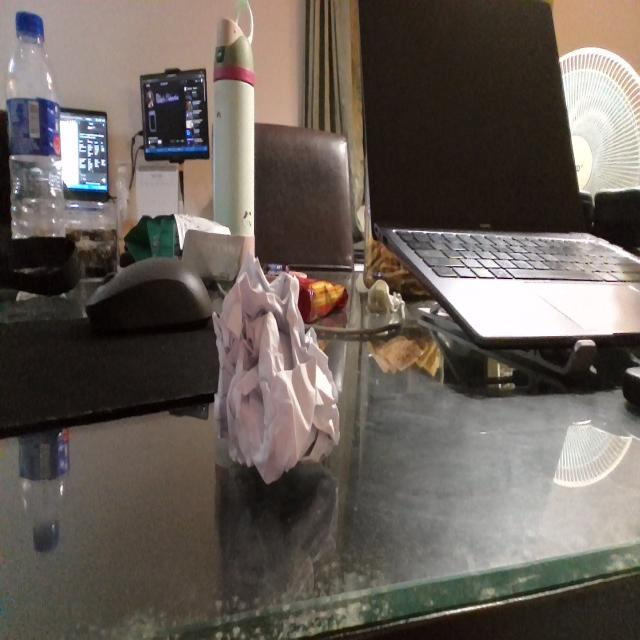crumpled_paper: (212, 249, 343, 489)
